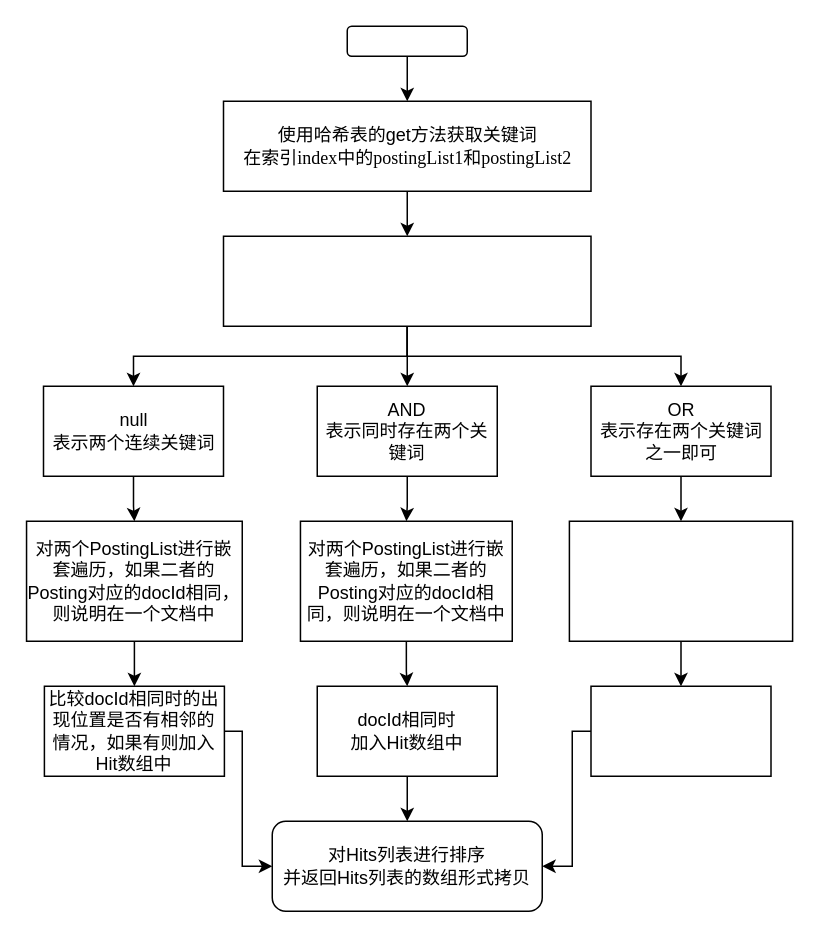
This 819x938 diagram has some shape labels left out. Each missing label, with the centre of its shape:
"docId相同时 需合并Hit中的Posting" belongs at point (680, 730).
"判断logicalCombination逻辑组合词" belongs at point (406, 280).
"对两个PostingList分别进行遍历并存入Hit数组中，二者的Posting对应的docId相同，则说明在一个文档中" belongs at point (680, 580).
"开始" belongs at point (406, 40).
